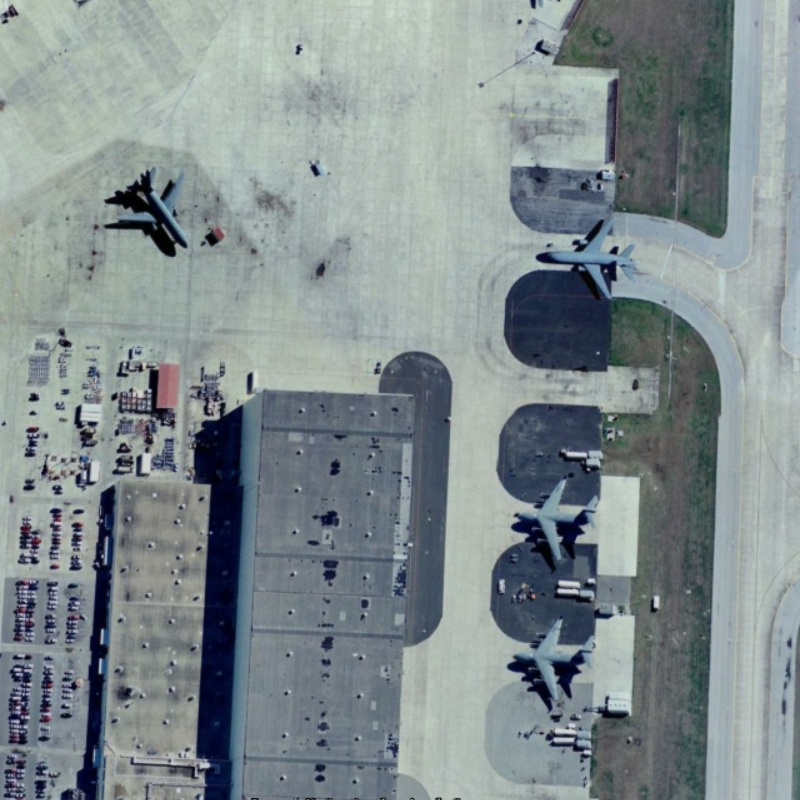A18: (532, 211, 644, 307), (107, 156, 200, 254)
A3: (500, 470, 606, 569), (510, 611, 600, 711)
